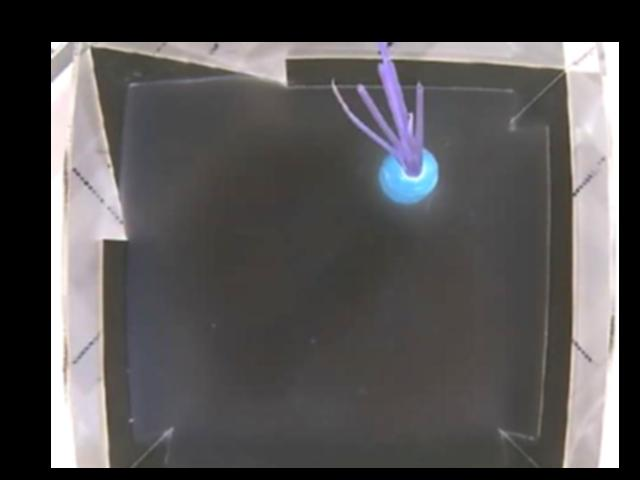Carrot: (361, 113, 439, 202)
